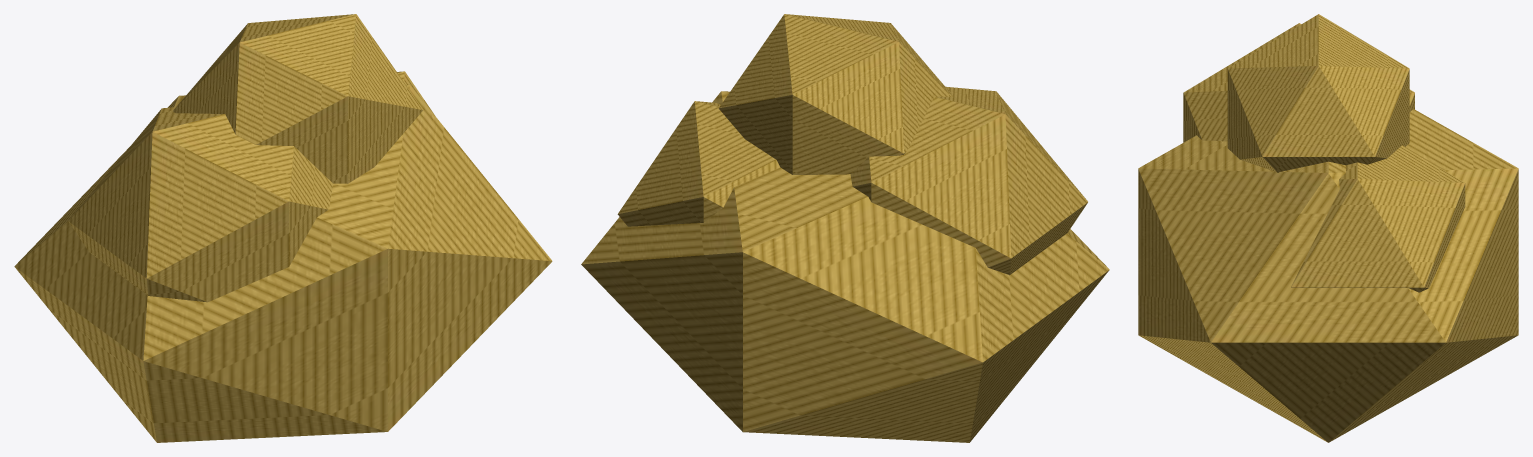
File: acc_meule.b4479043e8.glb
3 views of the same model, side by side, from view 1: azimuth 30°, elevation 25°; view 2: azimuth 150°, elevation 25°; view 3: azimuth 270°, elevation 25° (orthographic). The views are drawn at different scales.
Visible parts, largest first — view 1: meule; view 2: meule; view 3: meule.
Part boxes in pixels (bbox=[...]): meule: bbox=[14, 14, 552, 442]; meule: bbox=[581, 14, 1109, 442]; meule: bbox=[1138, 14, 1518, 442].
Size of the model in its own units: 0.8847 by 0.7964 by 0.7826.
1 material, 1 textured.
